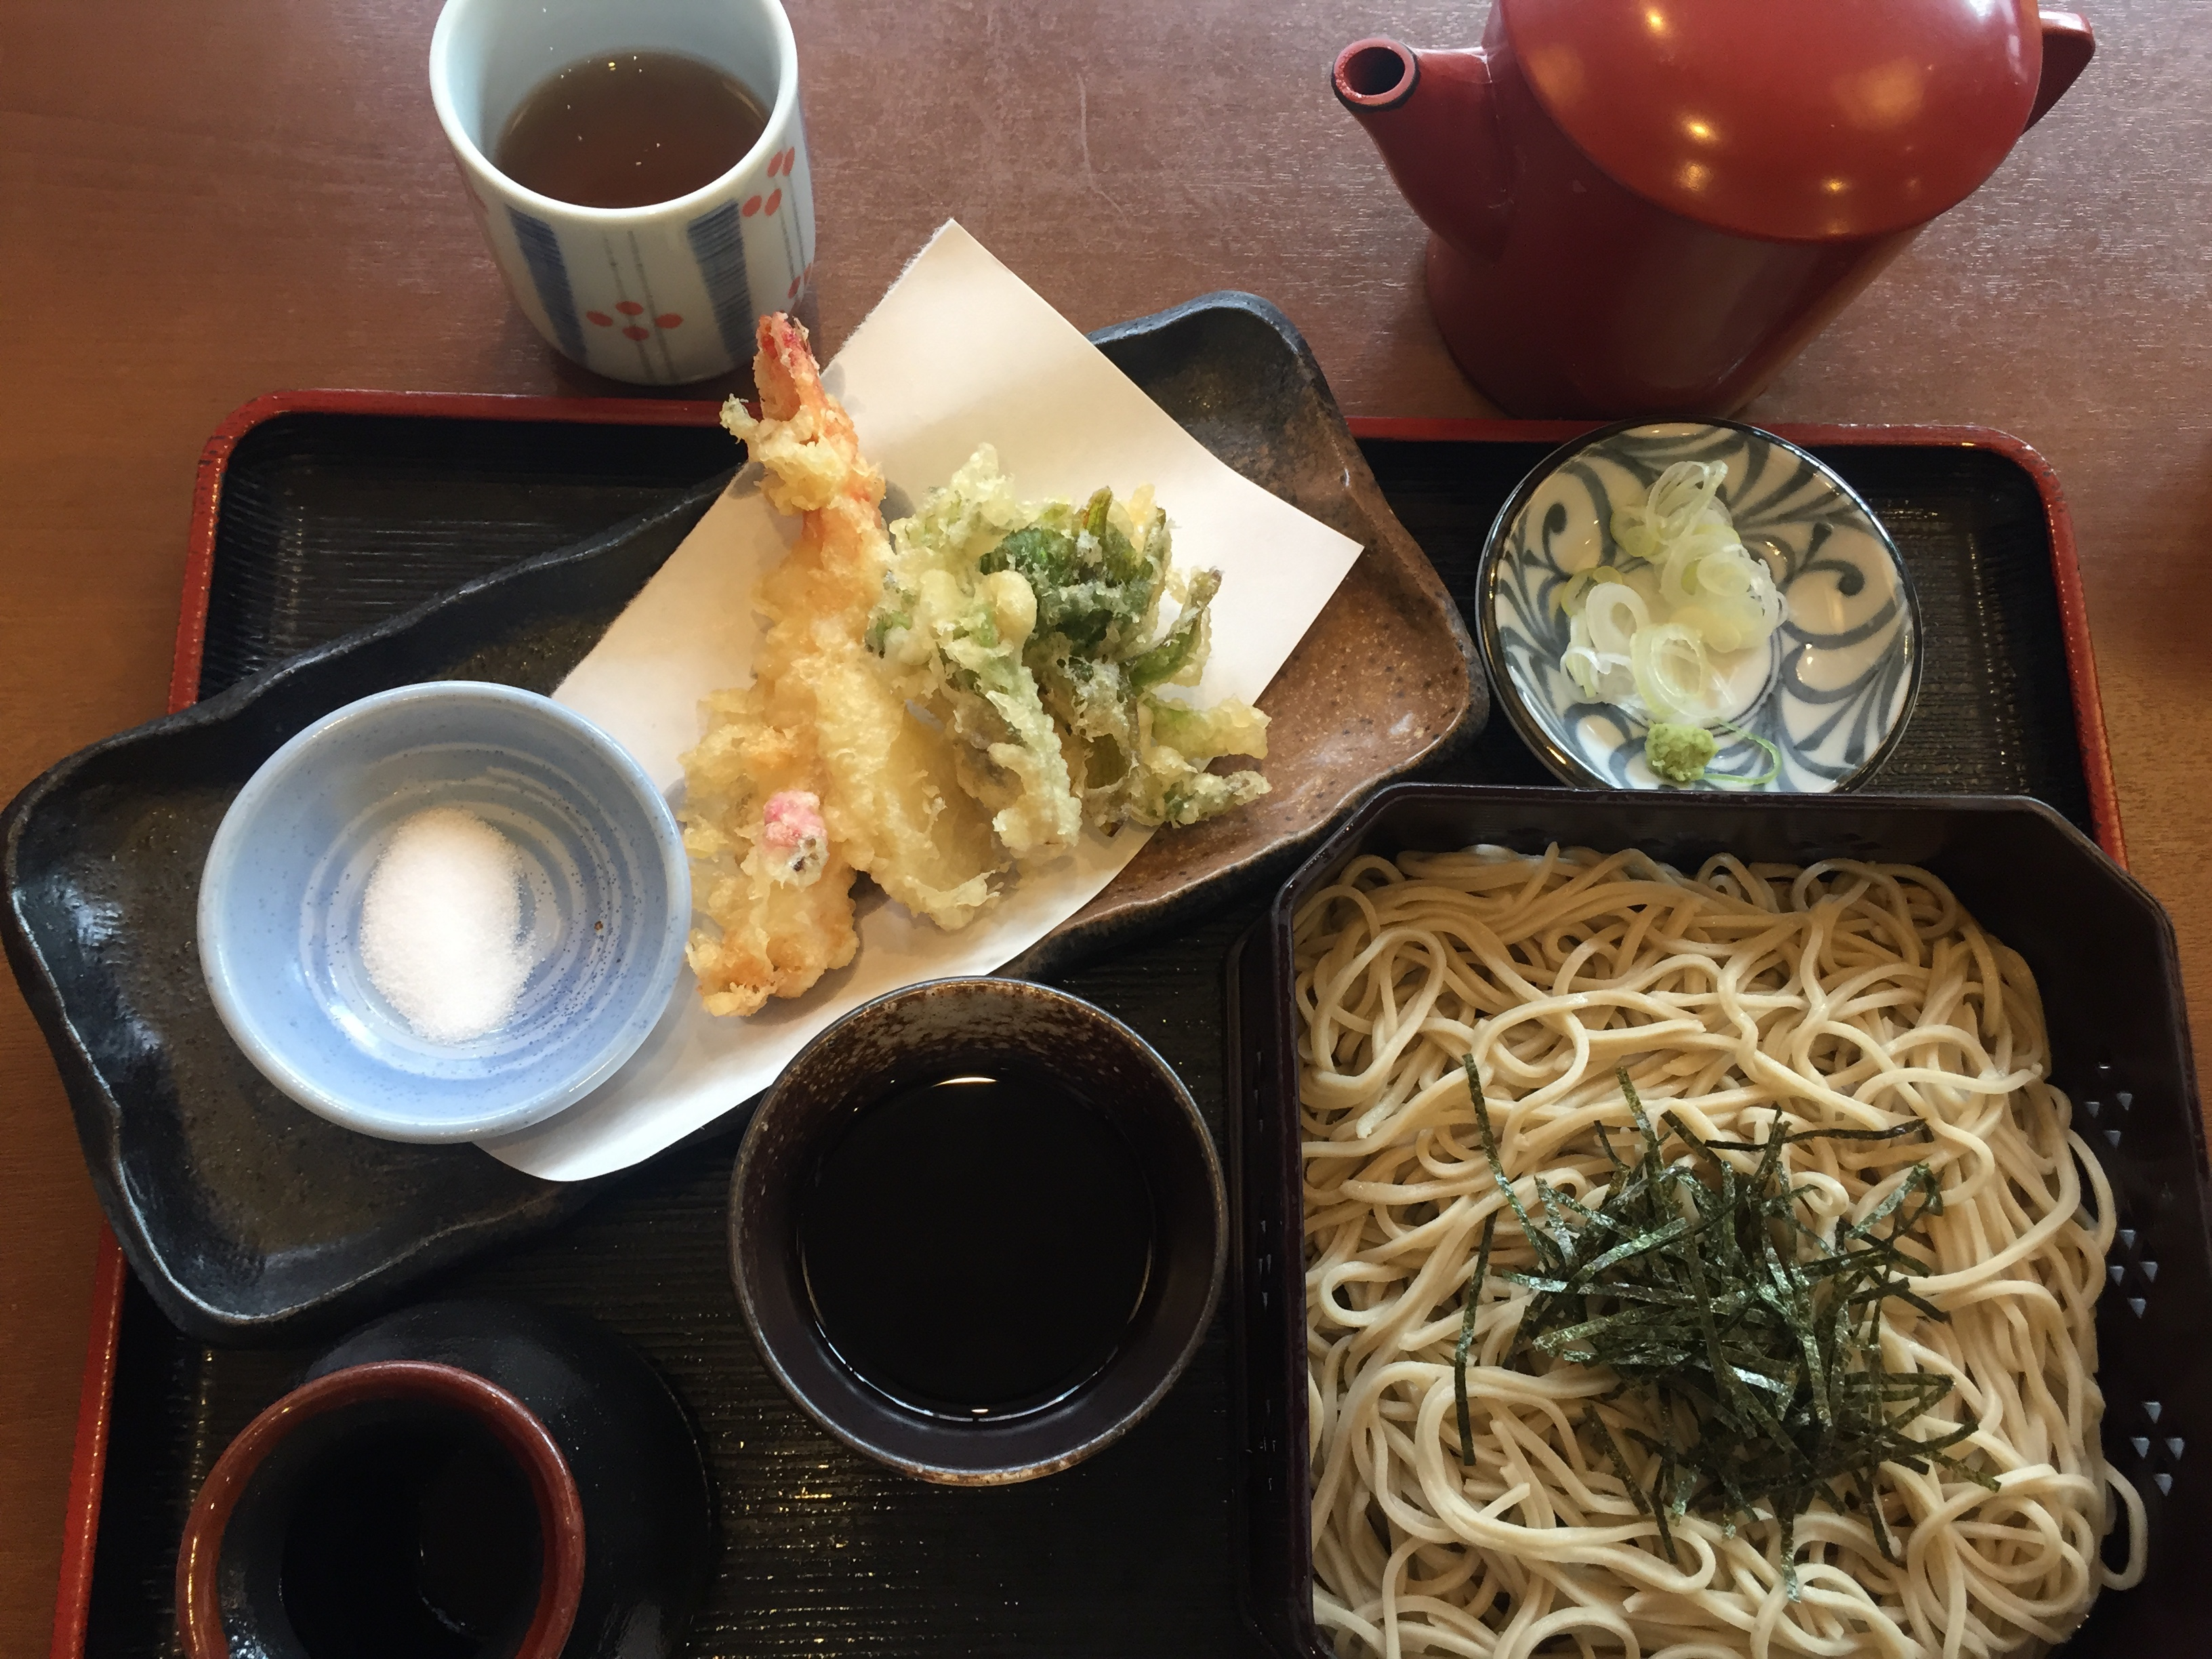Soba: (1285, 843, 2200, 1650)
